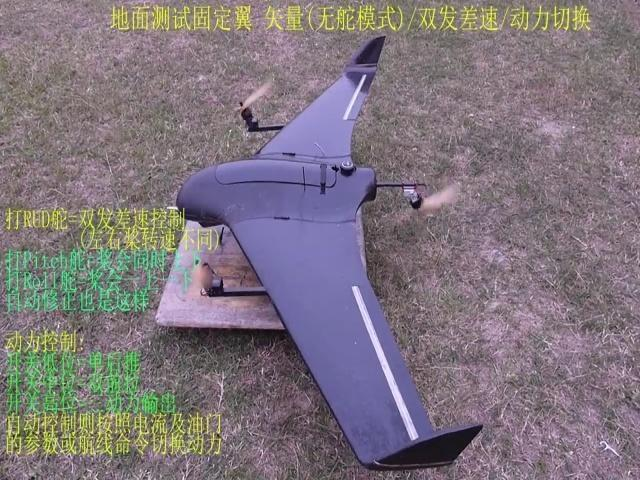Airplane: (166, 35, 483, 471)
